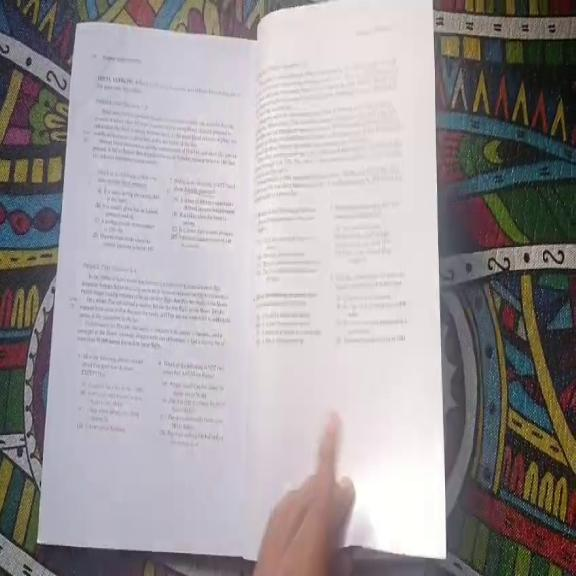Kertas: (258, 2, 451, 556), (74, 41, 255, 548)
